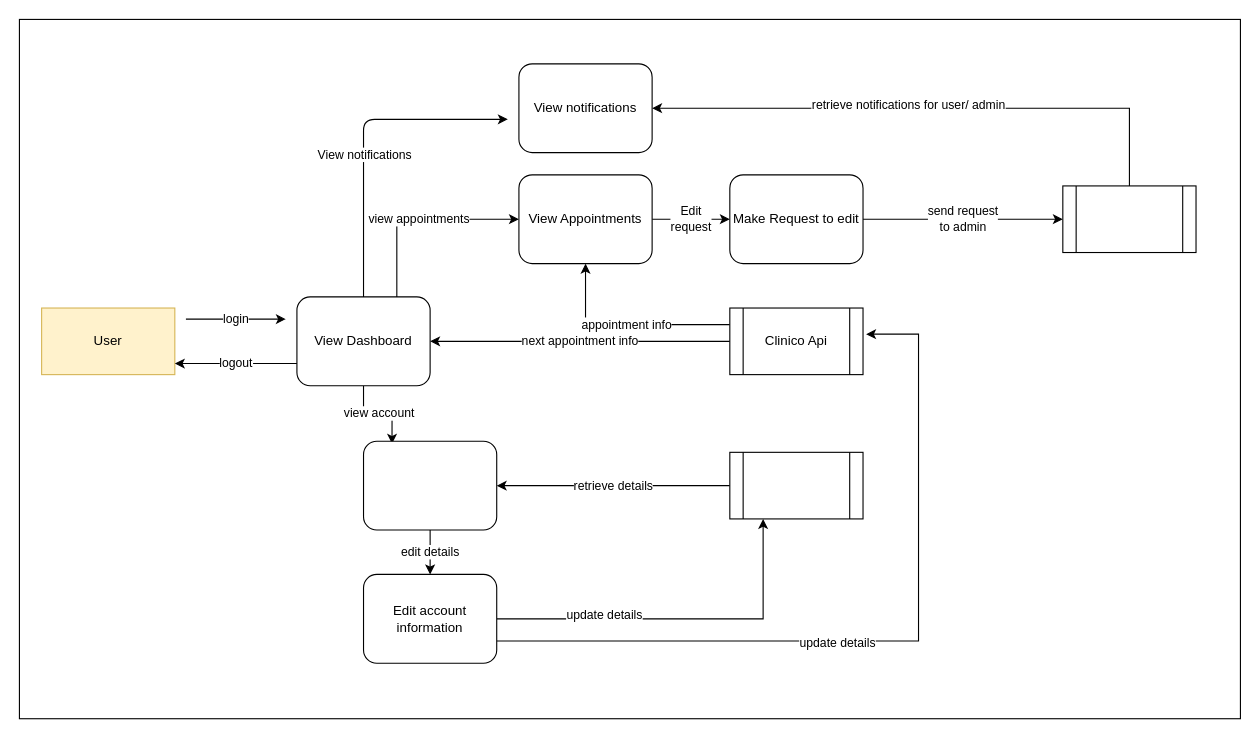
This 1260x738 diagram has some shape labels left out. The shapes that lost their labels are listed below. From the top down, each one's centre as x and y in pixels, then its label:
the point at 1129,219: Notifications
the point at 429,485: View Account infomation
the point at 796,485: User database
